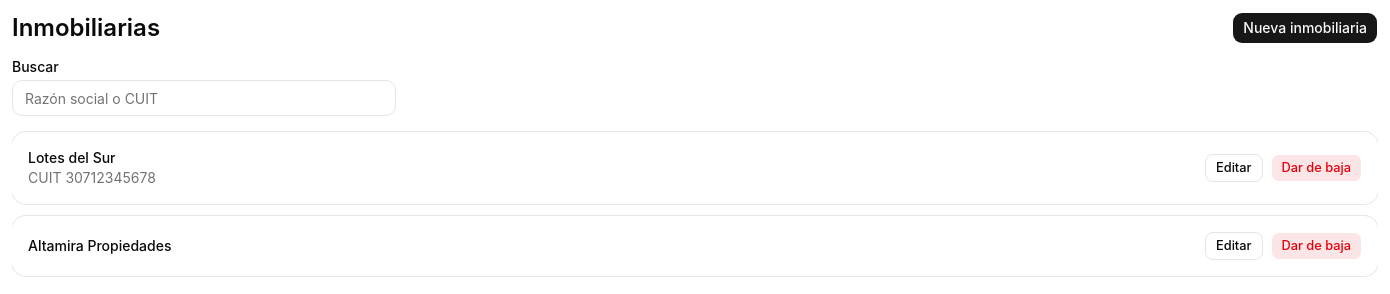
AgenciesPage › does not match every agency when the search is only a separator
Expected: the text "Lotes del Sur" is shown, 28,149 -> 116,166
Step 1. Type "-" into the search field labelled "Buscar" → (204, 98), box 12,80 -> 396,116
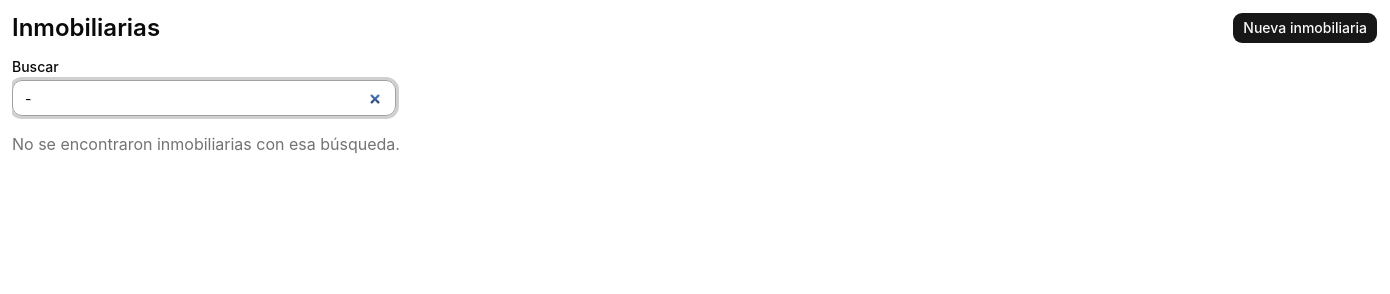
Now the text "Lotes del Sur" is gone
Now the text "Altamira Propiedades" is gone
Now the text "No se encontraron inmobiliarias con esa búsqueda." is shown, box 12,134 -> 400,154
